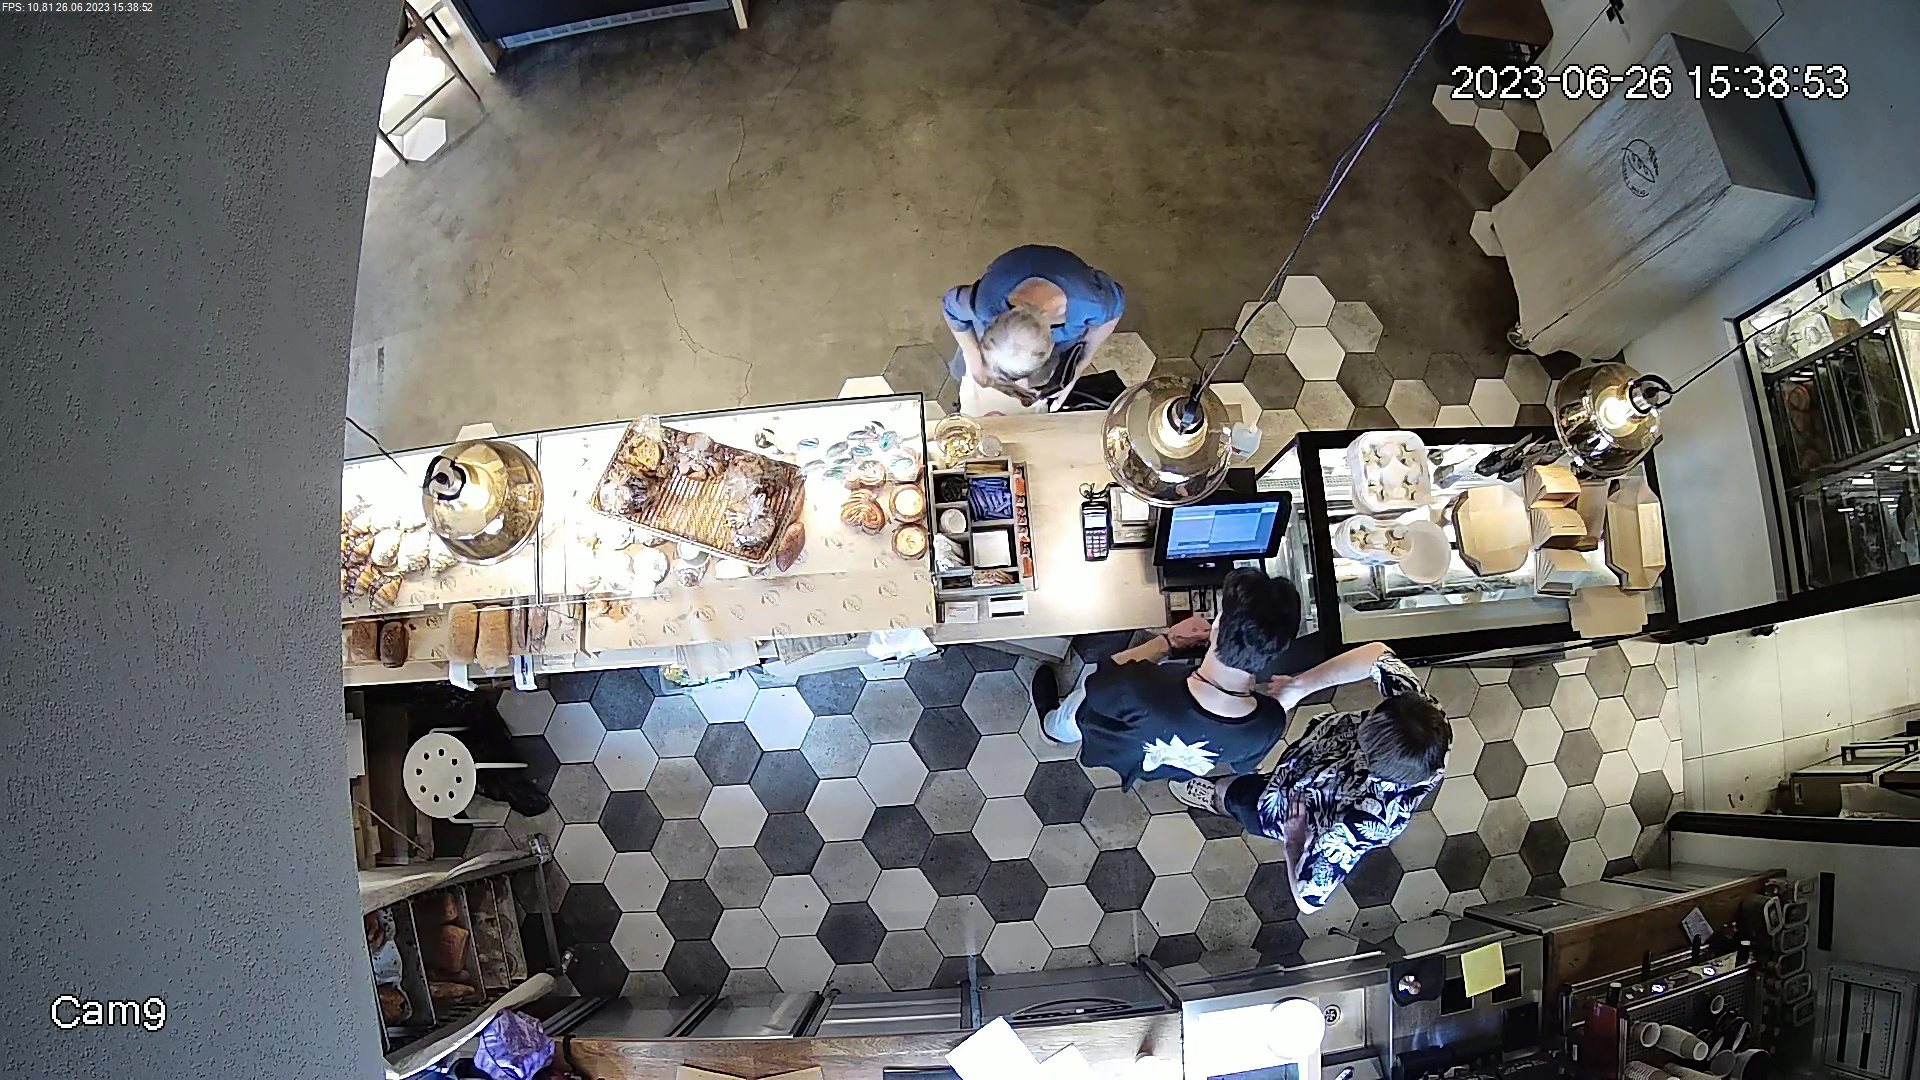barcounter: (335, 446, 1680, 673)
openedcash: (1156, 485, 1302, 676)
